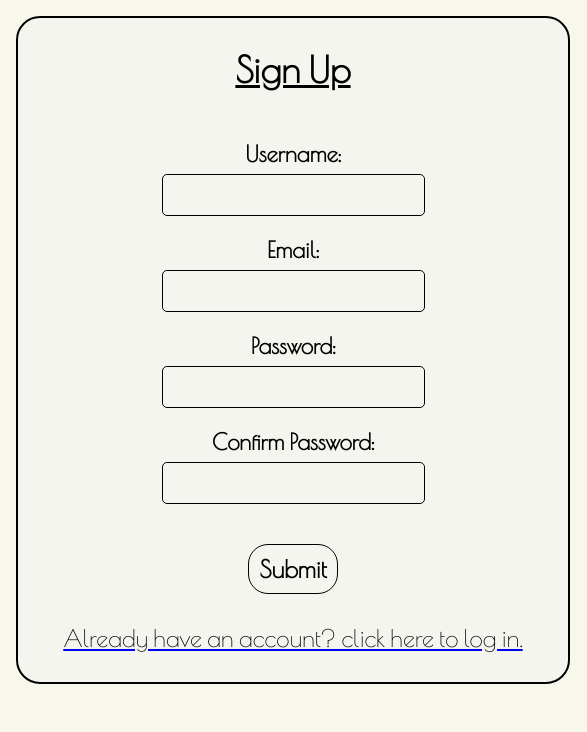
Scenario: Sign Up › normal errors › shows error when there is no password provided
The image size is (587, 732).
In the field labelled "Username:": (293, 195) [162, 174, 424, 216], type "username"
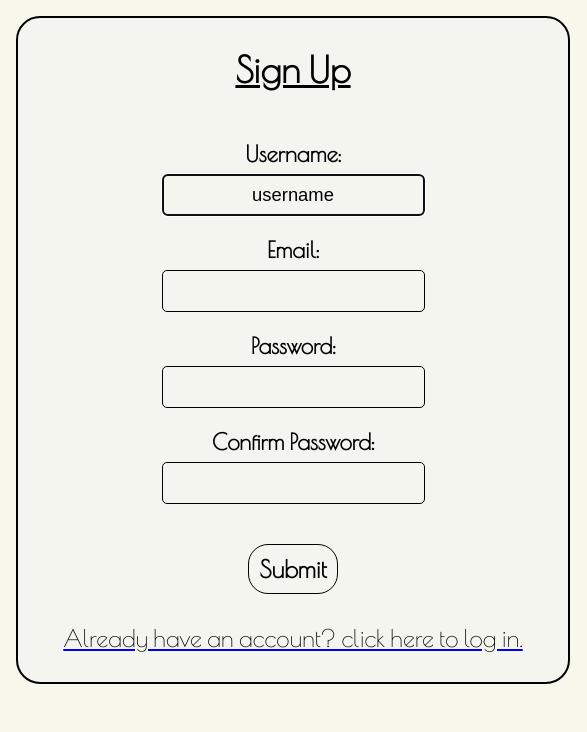
In the field labelled "Email:": (293, 291) [162, 270, 424, 312], type "Email@gmail.com"
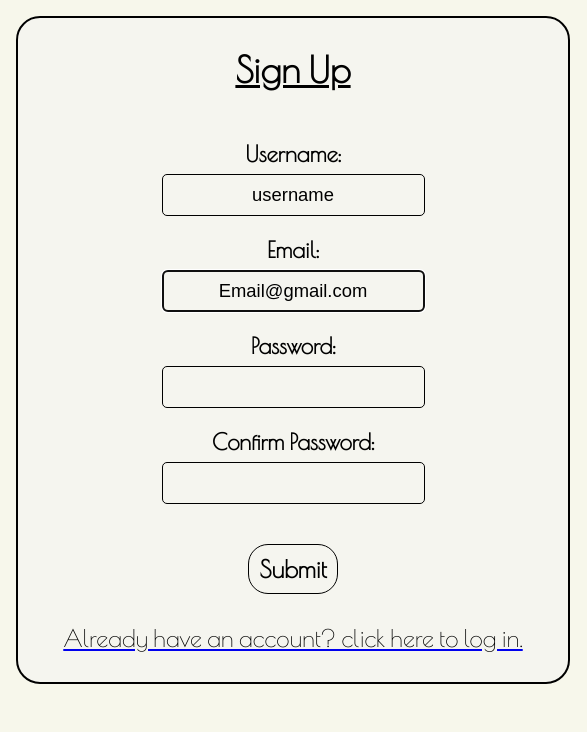
Click the button "Submit": (293, 569) [248, 544, 338, 594]
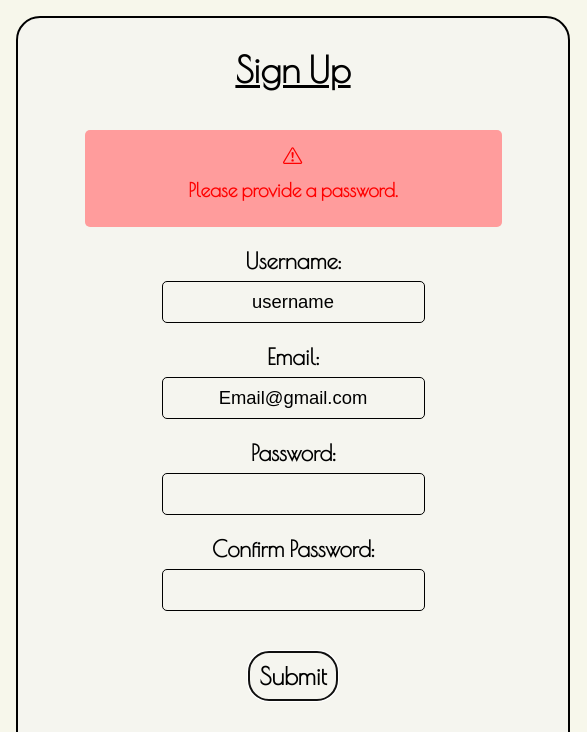
Result: the text "Please provide a password." is shown at [188, 179, 398, 201]
